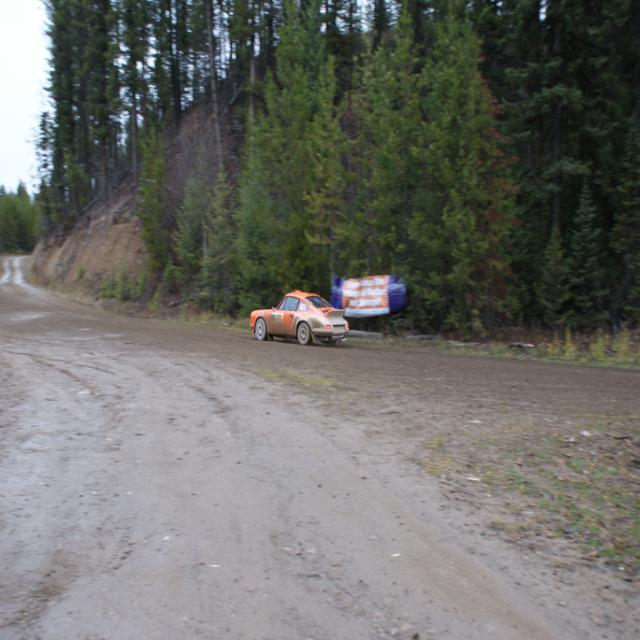car: (250, 287, 349, 345)
